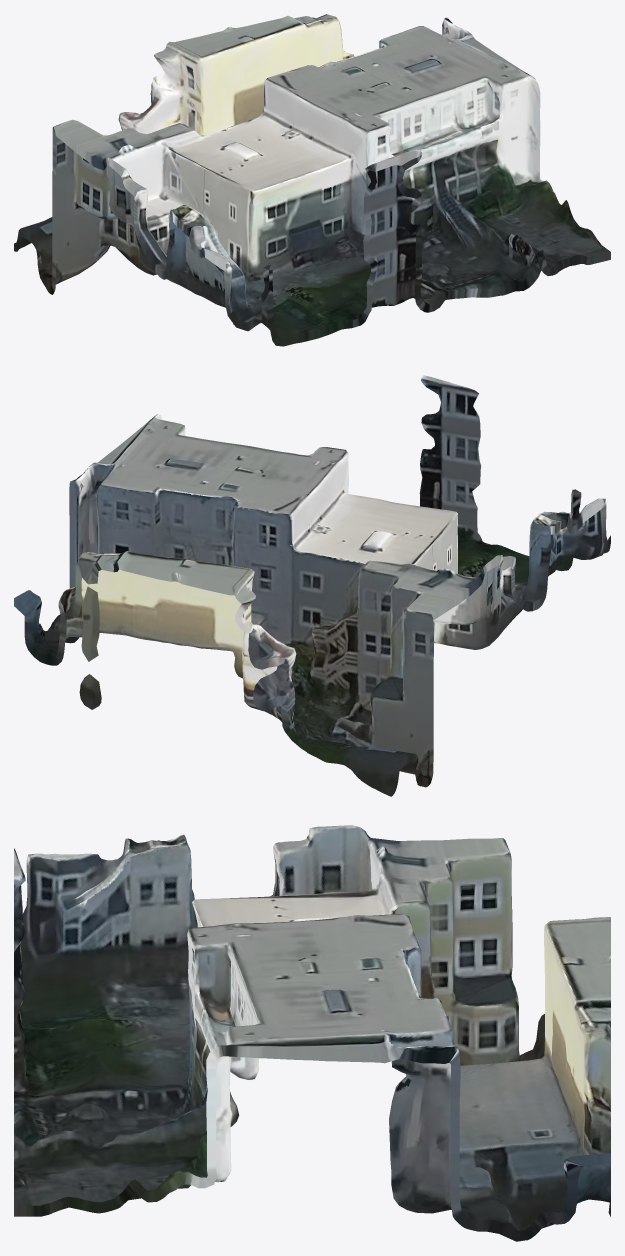
The model's file is z20-167742-405194-h0-yup-uvflip-v3-world.glb.
3 renders of one model, top to bottom at view 1: azimuth 30°, elevation 25°; view 2: azimuth 150°, elevation 25°; view 3: azimuth 270°, elevation 25°, orthographic. The views are drawn at different scales.
Size of the model in its own units: 30.16 by 17.68 by 30.32.
Materials: 1 (1 with a texture image).
